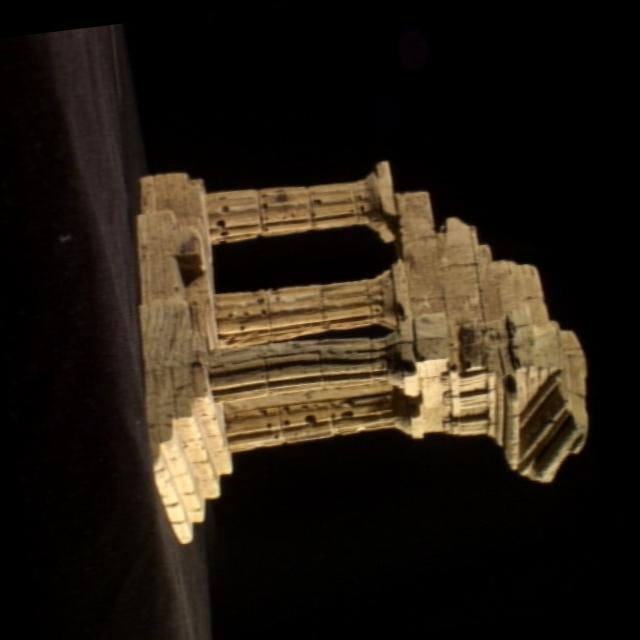Instance-Segmentation: (135, 163, 586, 543)
